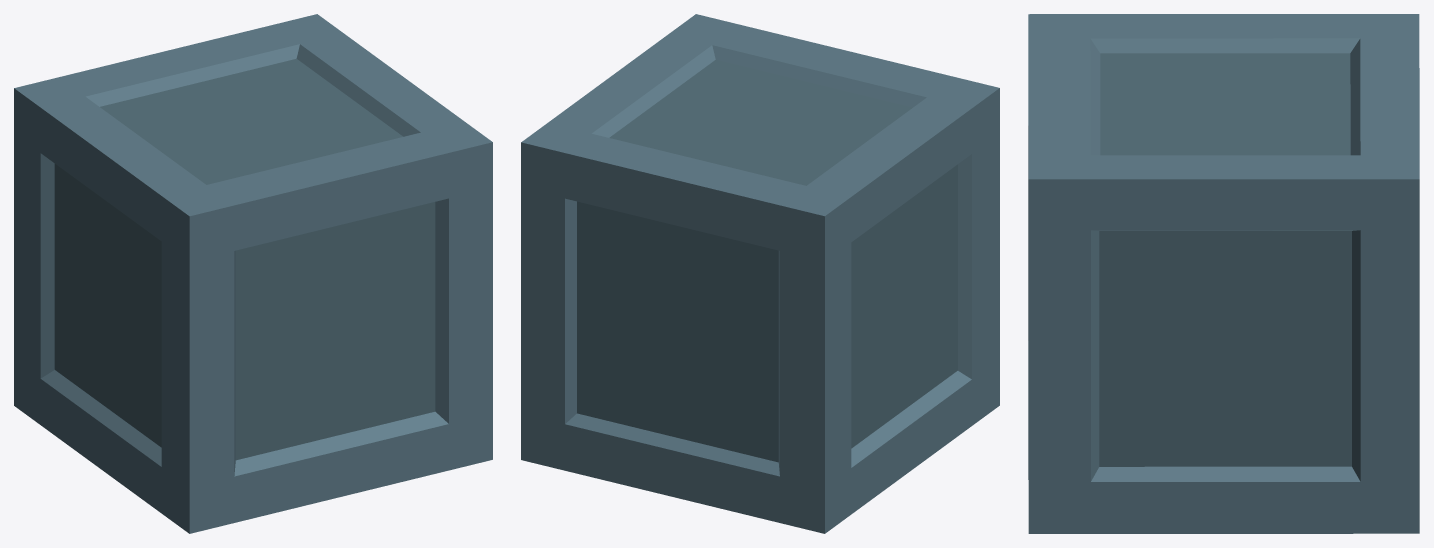
Rendered from Ship_037.glb.
3 views of the same model, side by side, from view 1: azimuth 30°, elevation 25°; view 2: azimuth 150°, elevation 25°; view 3: azimuth 270°, elevation 25° (orthographic). The views are drawn at different scales.
Parts seen in each view (by area): view 1: Ship_037; view 2: Ship_037; view 3: Ship_037.
Boxes of the visible parts, x1,y1,x2,y2 form: Ship_037: (14, 14, 492, 533); Ship_037: (521, 14, 999, 533); Ship_037: (1028, 14, 1419, 533).
Bounding box in the file's own units: 0.6039 × 0.6033 × 0.6039.
Materials: 1 (1 with a texture image).
